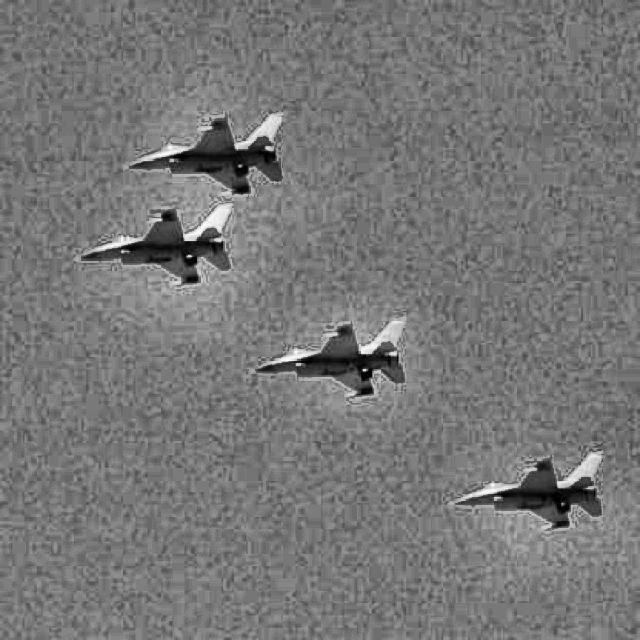F16: (123, 107, 285, 196), (73, 201, 233, 288), (447, 448, 605, 532), (249, 316, 408, 398)
